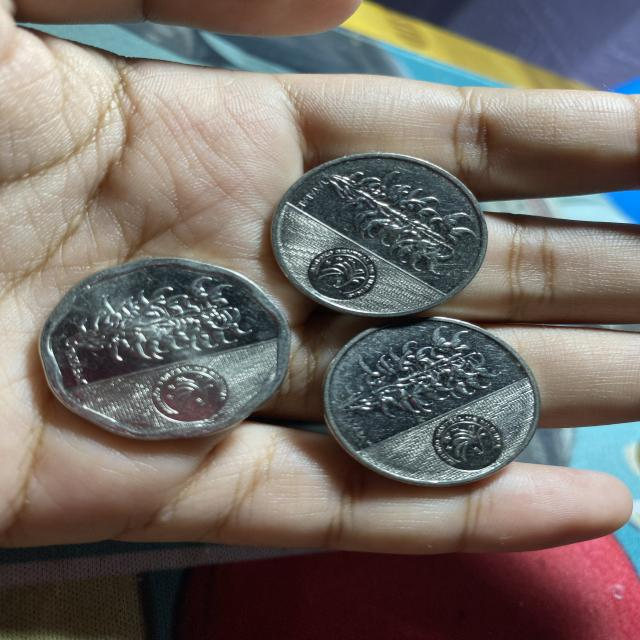5_New_Back: (57, 287, 249, 367), (326, 341, 501, 425), (332, 170, 468, 264)
